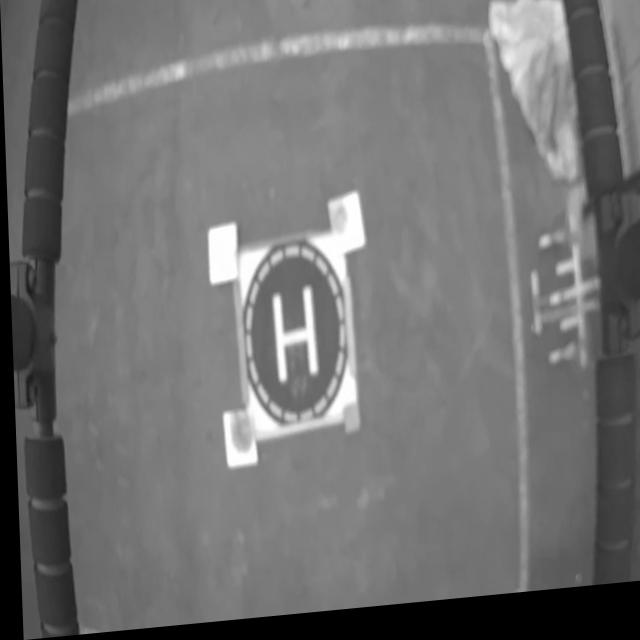Helipad: (269, 294, 317, 387)
